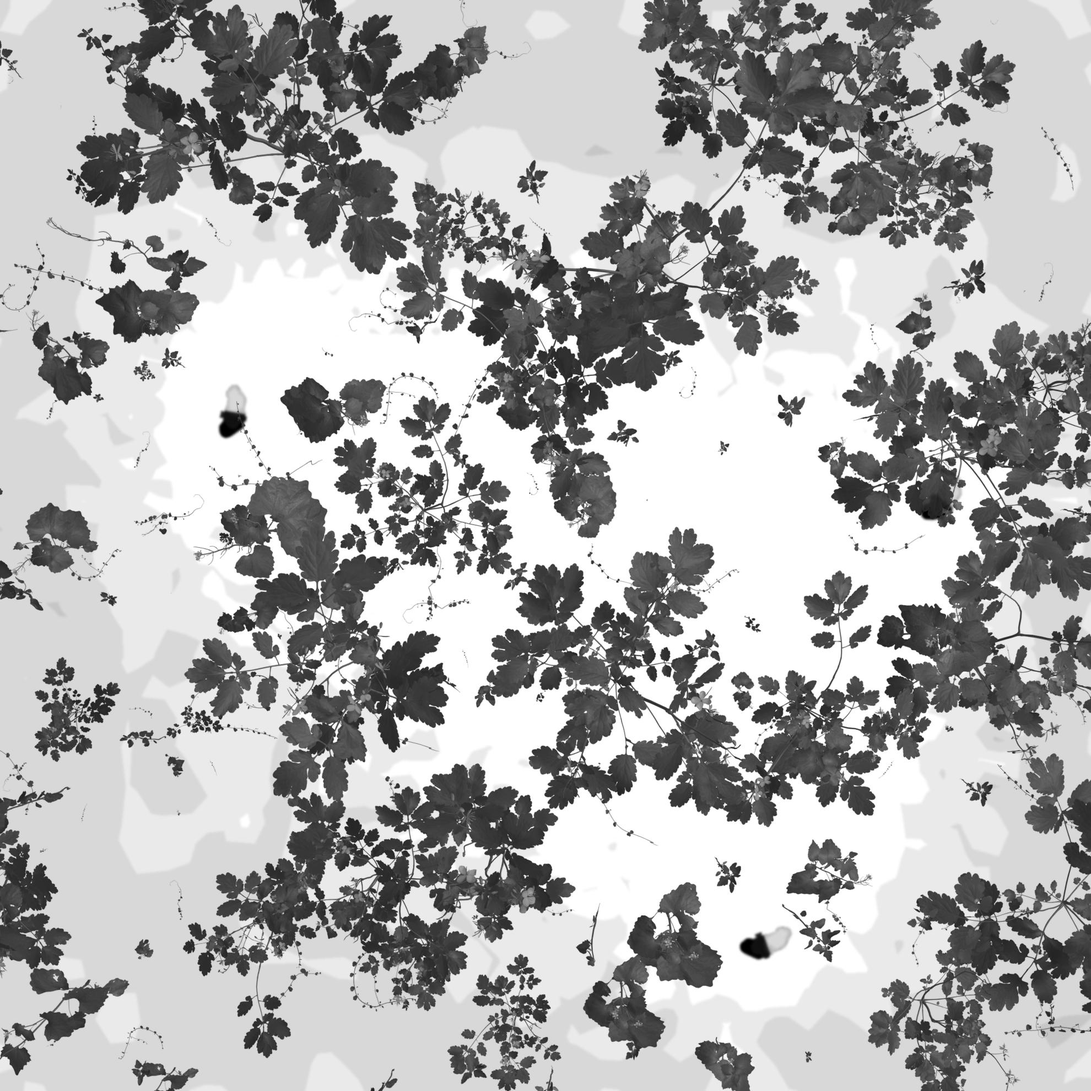landmine: (214, 380, 252, 440), (736, 922, 796, 960)
